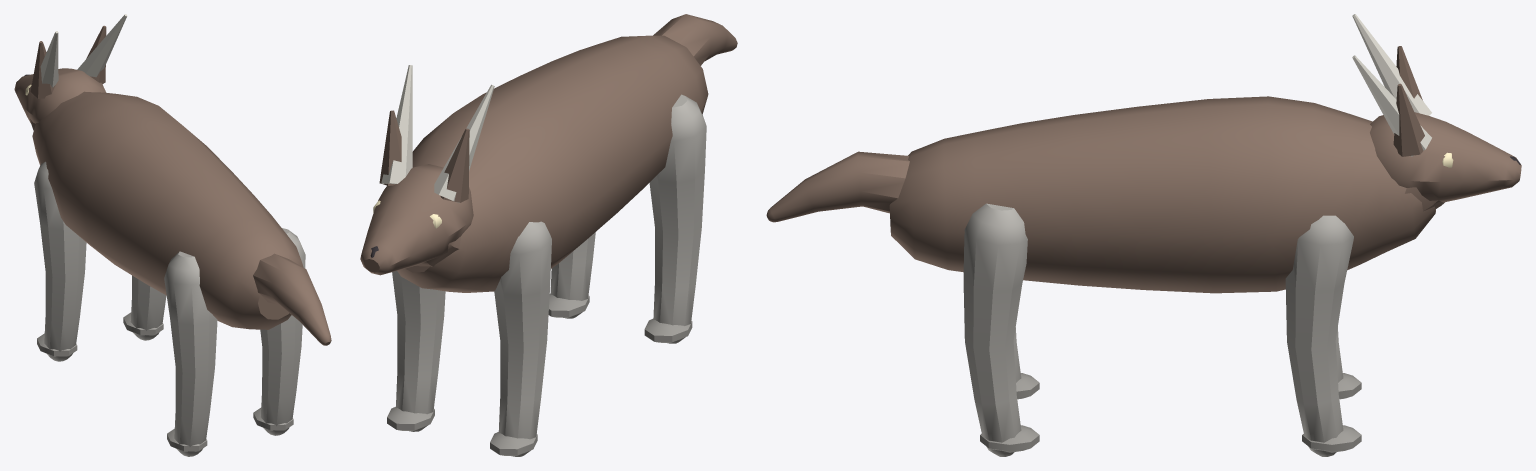
Rendered from cow.gltf.
3 renders of one model, left to right at view 1: azimuth 30°, elevation 25°; view 2: azimuth 150°, elevation 25°; view 3: azimuth 270°, elevation 25°, orthographic. The views are drawn at different scales.
Visible parts, largest first — view 1: Body, SwingB2, SwingA1, SwingA2, SwingB1; view 2: Body, SwingB2, SwingA1, SwingB1, SwingA2; view 3: Body, SwingA2, SwingB1.
Boxes of the visible parts, box(x1,y1,x2,y2) form: Body: box(14, 14, 331, 345); SwingB2: box(164, 251, 217, 456); SwingA1: box(34, 161, 86, 361); SwingA2: box(253, 228, 305, 435); SwingB1: box(123, 275, 166, 340); Body: box(360, 14, 737, 292); SwingB2: box(644, 94, 706, 343); SwingA1: box(490, 221, 551, 456); SwingB1: box(387, 271, 445, 431); SwingA2: box(548, 232, 595, 318); Body: box(766, 14, 1521, 293); SwingA2: box(963, 203, 1039, 456); SwingB1: box(1285, 215, 1361, 456).
Size of the model in its own units: 0.8352 by 1.89 by 3.3.
